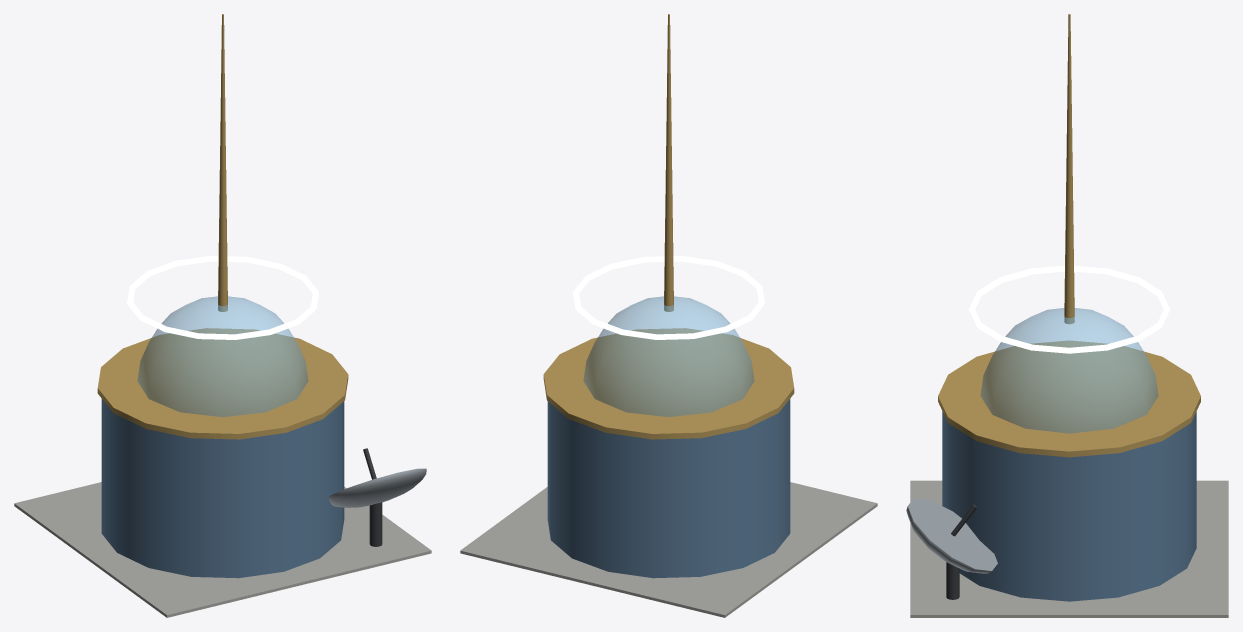
Rendered from bld_special_research_center_a10.glb.
3 views of the same model, side by side, from view 1: azimuth 30°, elevation 25°; view 2: azimuth 150°, elevation 25°; view 3: azimuth 270°, elevation 25° (orthographic). The views are drawn at different scales.
Parts seen in each view (by area): view 1: body, antenna; view 2: body; view 3: body, antenna.
Part boxes in pixels (x1,y1,x2,y2): body: (14, 14, 431, 617); antenna: (328, 448, 426, 546); body: (460, 14, 877, 617); body: (910, 14, 1228, 617); antenna: (906, 498, 997, 599).
Size of what is drawn, in the model's own units: 15.6 by 27.9 by 15.19.
